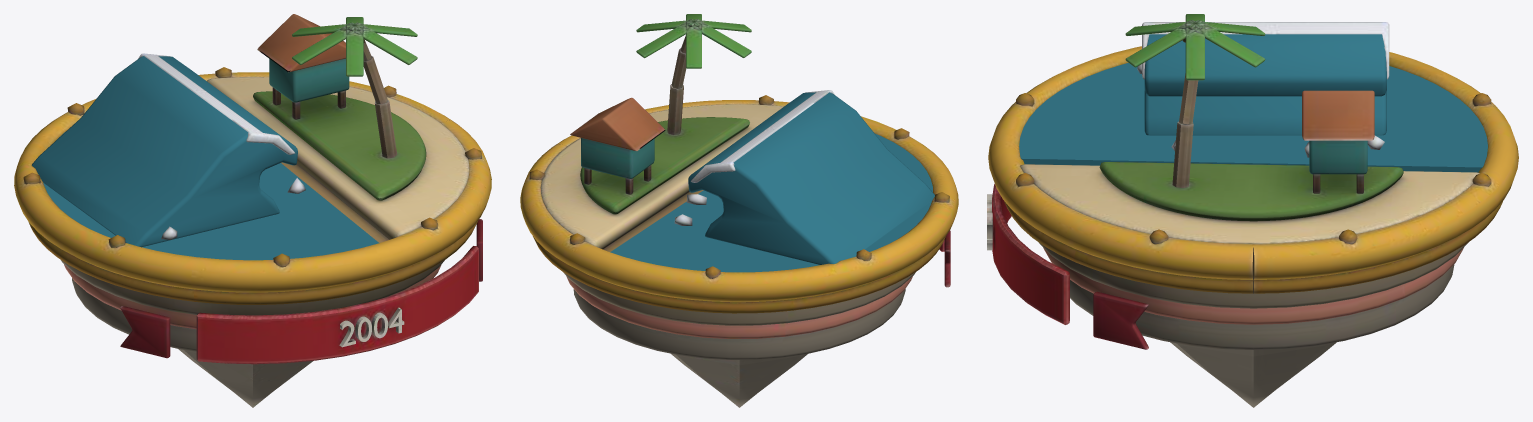
File: badge_indian_ocean.glb
The picture shows the model from 3 angles, left to right: view 1: azimuth 30°, elevation 25°; view 2: azimuth 150°, elevation 25°; view 3: azimuth 270°, elevation 25°; orthographic projection. The views are drawn at different scales.
Visible parts, largest first — view 1: badge_indian_ocean, badge_indian_ocean_glow; view 2: badge_indian_ocean, badge_indian_ocean_glow; view 3: badge_indian_ocean, badge_indian_ocean_glow.
Boxes of the visible parts, box(x1,y1,x2,y2) form: badge_indian_ocean: box(14, 14, 491, 407); badge_indian_ocean_glow: box(32, 56, 379, 260); badge_indian_ocean: box(520, 14, 958, 407); badge_indian_ocean_glow: box(610, 92, 934, 272); badge_indian_ocean: box(987, 14, 1518, 407); badge_indian_ocean_glow: box(1019, 34, 1487, 172).
Bounding box in the file's own units: 2.19 × 1.94 × 2.2.
2 materials, 1 textured.
